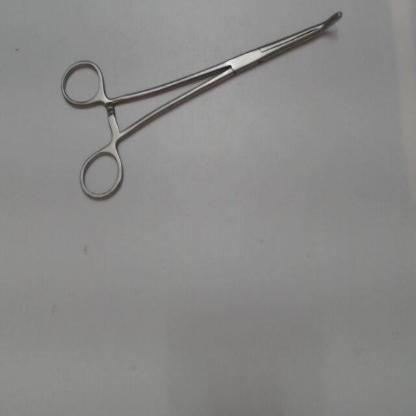Lahey Forceps: (56, 4, 350, 207)
